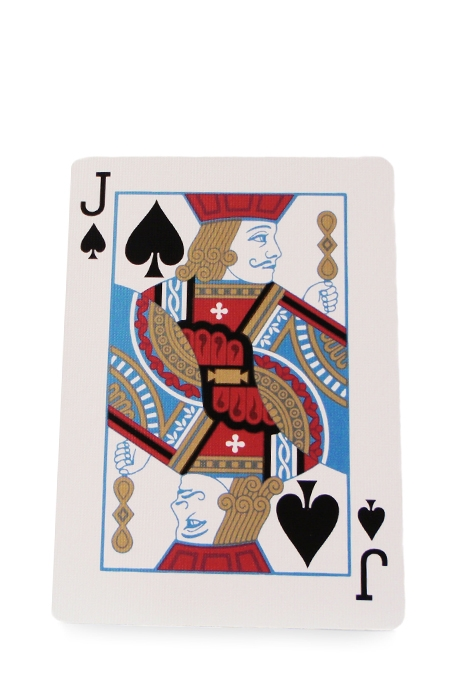jack of spades: (52, 153, 407, 628)
